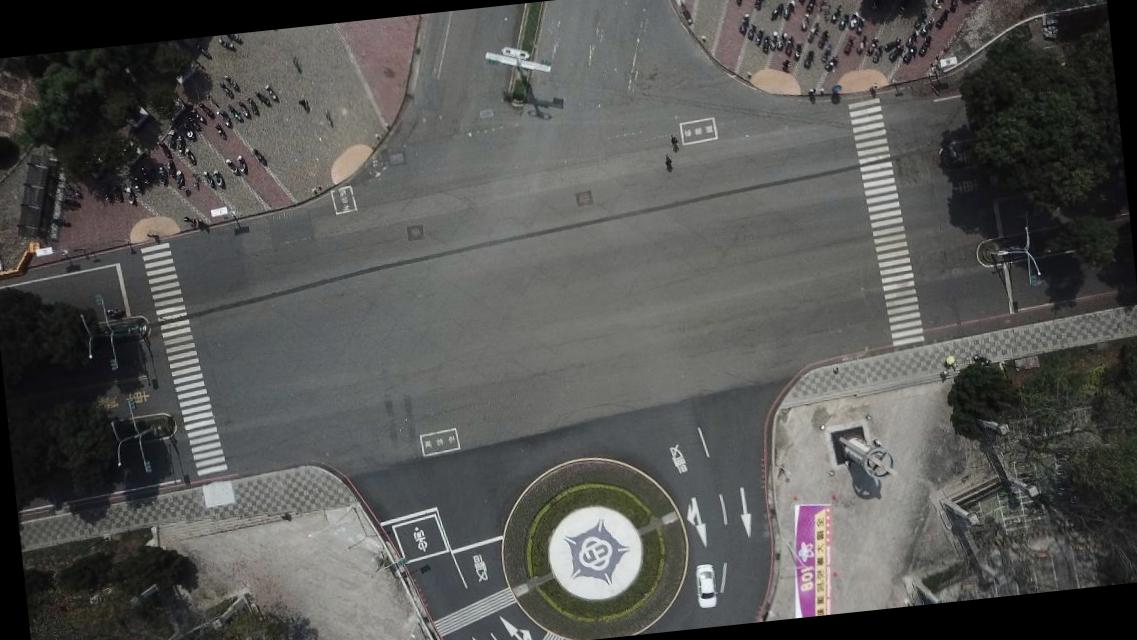vehicle: (694, 563, 718, 609)
